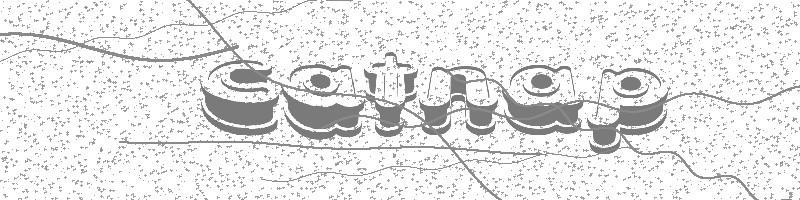a: (281, 62, 364, 141), (503, 63, 583, 136)
c: (199, 57, 280, 137)
n: (419, 65, 499, 136)
p: (586, 65, 669, 156)
t: (364, 51, 419, 138)
